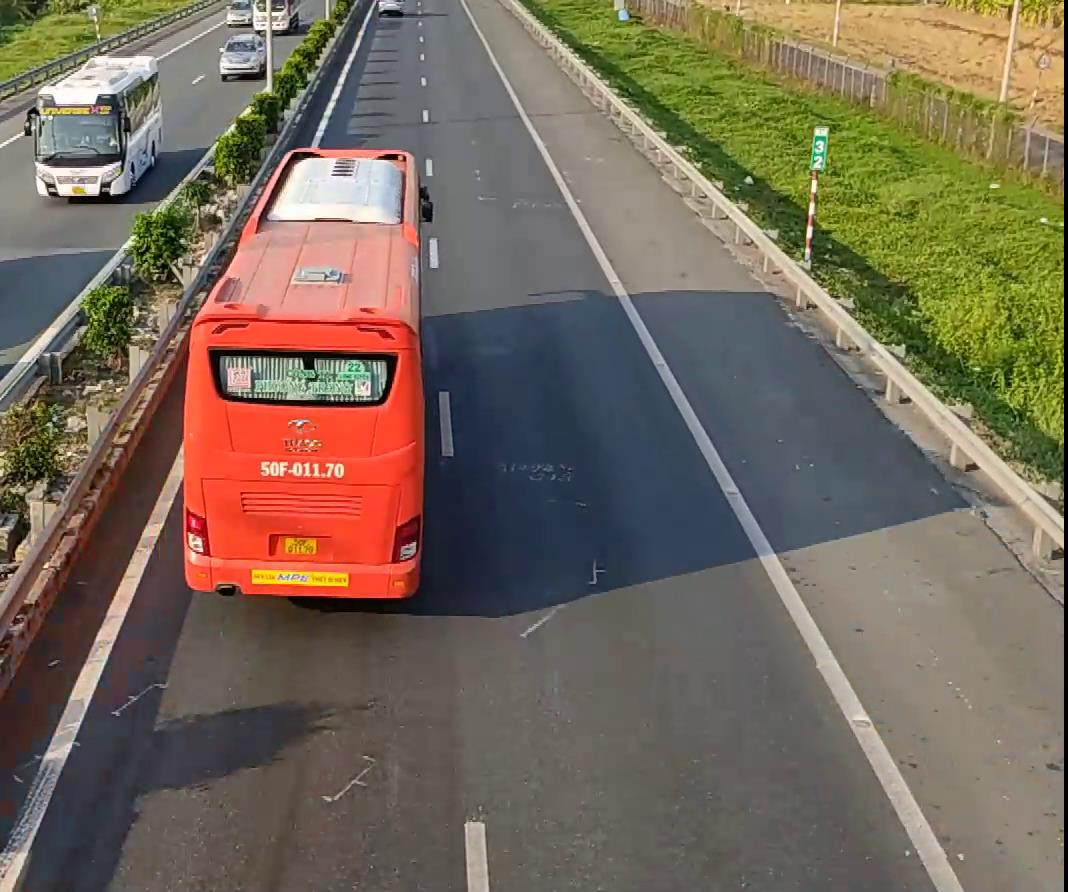bus: (178, 145, 429, 599), (30, 53, 163, 200)
